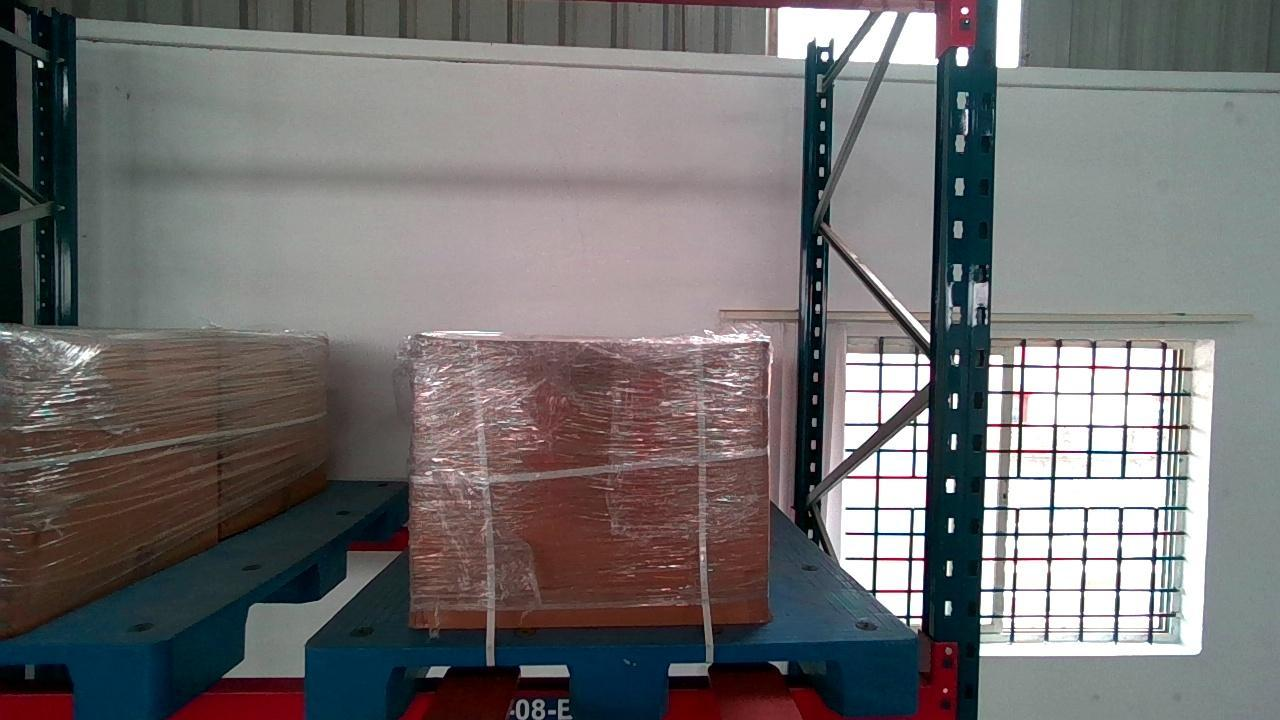small_pallet: (308, 640, 914, 716)
